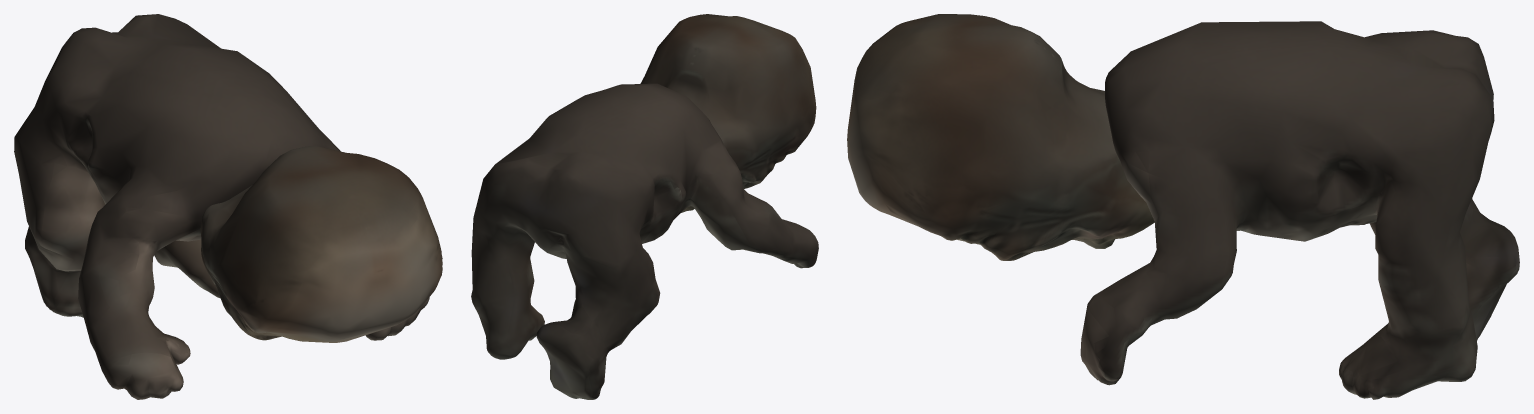
Rendered from x-files-pinball-alien-toy-90313d.glb.
3 views of the same model, side by side, from view 1: azimuth 30°, elevation 25°; view 2: azimuth 150°, elevation 25°; view 3: azimuth 270°, elevation 25° (orthographic). The views are drawn at different scales.
Visible parts, largest first — view 1: PropMesh; view 2: PropMesh; view 3: PropMesh.
Part boxes in pixels (<box>): PropMesh: <box>14,14,442,399</box>; PropMesh: <box>471,14,818,399</box>; PropMesh: <box>847,14,1519,399</box>.
Bounding box in the file's own units: 2.55 × 2.2 × 3.88.
Materials: 2 (2 with a texture image).
